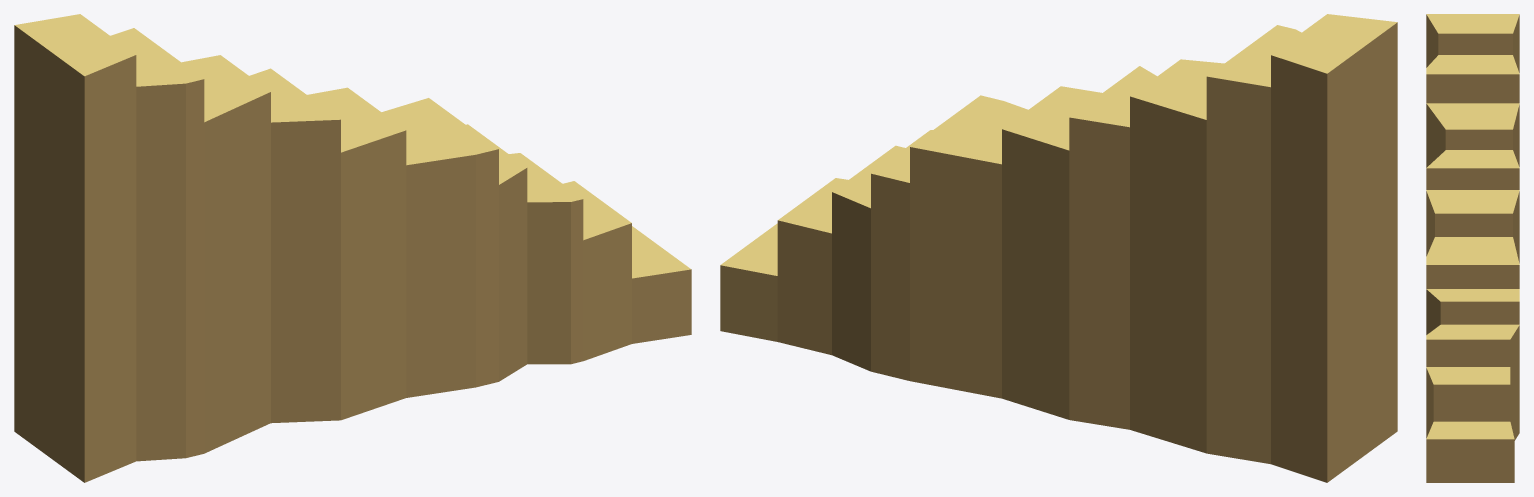
Rendered from Terrain_Modular_Tiles_Sand_Dirt_Stairs_01.fbx.
The picture shows the model from 3 angles, left to right: view 1: azimuth 30°, elevation 25°; view 2: azimuth 150°, elevation 25°; view 3: azimuth 270°, elevation 25°; orthographic projection. The views are drawn at different scales.
Visible parts, largest first — view 1: Terrain_Modular_Tiles_Sand_Dirt_Stairs_01; view 2: Terrain_Modular_Tiles_Sand_Dirt_Stairs_01; view 3: Terrain_Modular_Tiles_Sand_Dirt_Stairs_01.
Part boxes in pixels (<box>): Terrain_Modular_Tiles_Sand_Dirt_Stairs_01: <box>14,14,691,482</box>; Terrain_Modular_Tiles_Sand_Dirt_Stairs_01: <box>720,14,1397,482</box>; Terrain_Modular_Tiles_Sand_Dirt_Stairs_01: <box>1426,14,1519,482</box>.
Size of the model in its own units: 148 by 94.49 by 29.53.
